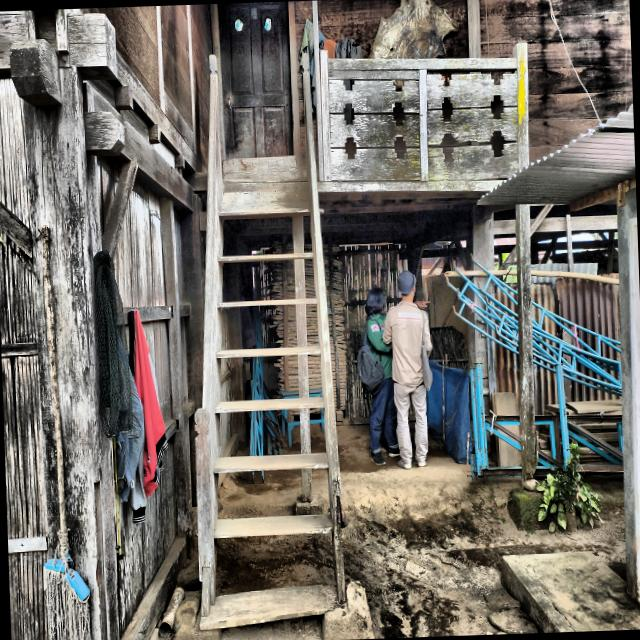column: (21, 68, 119, 640)
door: (216, 1, 294, 159)
ornamen: (328, 69, 421, 180), (426, 68, 518, 180)
stair: (194, 53, 349, 630)
